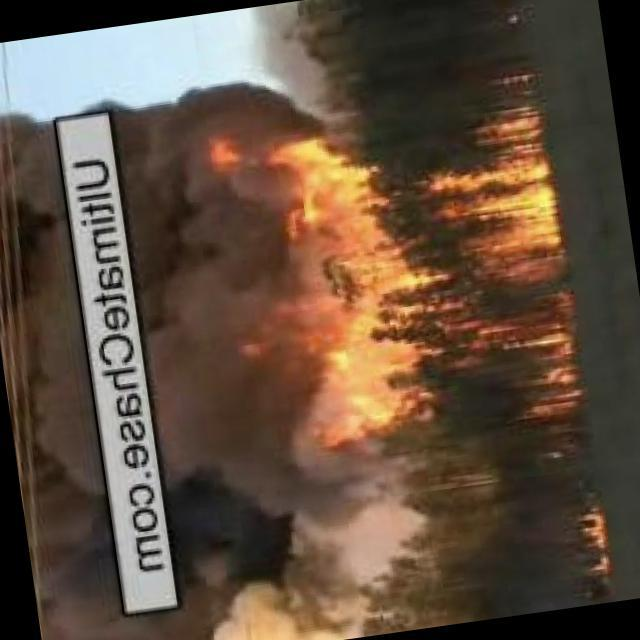Fire: (200, 90, 585, 466), (569, 508, 614, 586)
